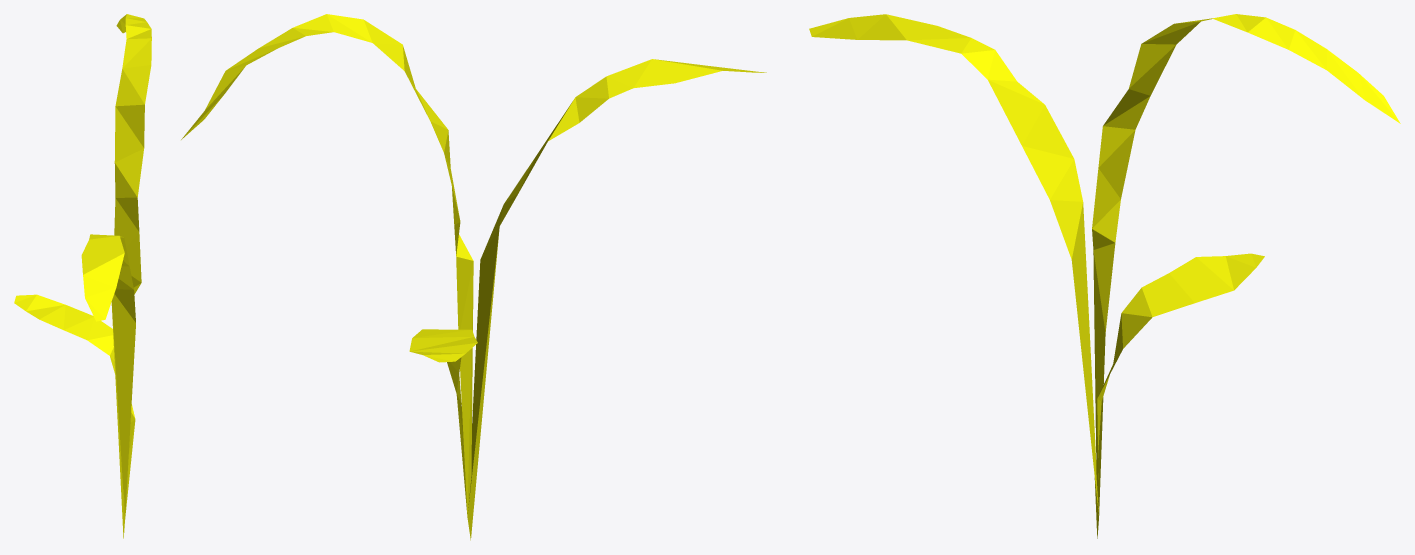
Rendered from nettle.dae.
The picture shows the model from 3 angles, left to right: view 1: azimuth 30°, elevation 25°; view 2: azimuth 150°, elevation 25°; view 3: azimuth 270°, elevation 25°; orthographic projection. The views are drawn at different scales.
Visible parts, largest first — view 1: node; view 2: node; view 3: node.
Boxes of the visible parts, left/top/right/bottom form: node: left=14, top=14, right=151, bottom=538; node: left=181, top=14, right=766, bottom=540; node: left=809, top=14, right=1400, bottom=538.
Size of the model in its own units: 0.5632 by 0.8761 by 0.9277.
Materials: 1 (1 with a texture image).
